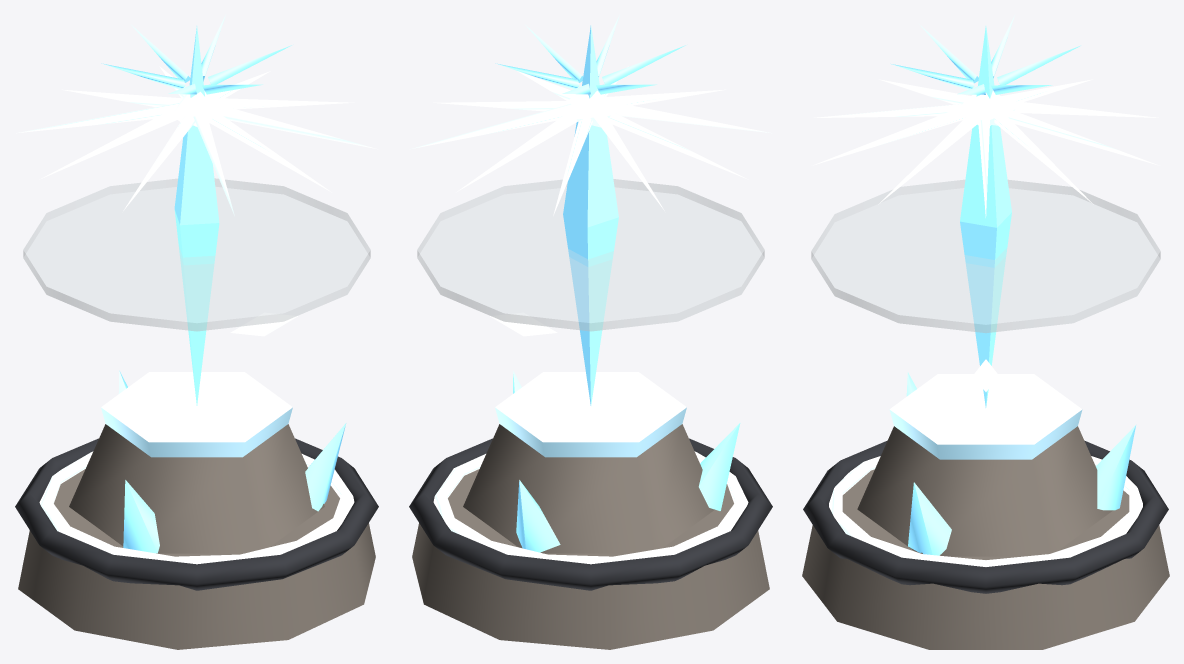
The model's file is tower_freeze_winter.glb.
3 renders of one model, left to right at view 1: azimuth 30°, elevation 25°; view 2: azimuth 150°, elevation 25°; view 3: azimuth 270°, elevation 25°, orthographic.
Parts seen in each view (by area): view 1: winter_mist, base, pedestal, pedestal_frost, base_rim, crystal, aura_ring, side_crystal_1, side_crystal_0, canopy_branch_1, canopy_branch_6, canopy_branch_2 (+9 smaller); view 2: winter_mist, base, pedestal, pedestal_frost, base_rim, crystal, aura_ring, side_crystal_1, side_crystal_2, canopy_branch_9, canopy_branch_4, canopy_branch_8 (+9 smaller); view 3: winter_mist, base, pedestal, pedestal_frost, base_rim, crystal, aura_ring, side_crystal_0, side_crystal_2, canopy_branch_2, canopy_branch_8, canopy_branch_1 (+9 smaller).
Boxes of the visible parts, box(x1,y1,x2,y2) form: winter_mist: box(23, 178, 370, 331); base: box(18, 469, 375, 649); pedestal: box(69, 424, 324, 553); pedestal_frost: box(101, 372, 292, 457); base_rim: box(15, 438, 378, 590); crystal: box(174, 26, 219, 405); aura_ring: box(39, 451, 354, 564); side_crystal_1: box(123, 480, 159, 553); side_crystal_0: box(305, 423, 346, 511); canopy_branch_1: box(212, 102, 377, 149); canopy_branch_6: box(16, 103, 179, 133); canopy_branch_2: box(209, 111, 331, 192); winter_mist: box(417, 179, 764, 331); base: box(412, 469, 769, 649); pedestal: box(463, 424, 714, 553); pedestal_frost: box(495, 372, 686, 457); base_rim: box(409, 438, 772, 590); crystal: box(563, 25, 618, 405); aura_ring: box(433, 451, 748, 564); side_crystal_1: box(698, 423, 740, 510); side_crystal_2: box(516, 480, 560, 552); canopy_branch_9: box(410, 104, 572, 149); canopy_branch_4: box(606, 100, 771, 133); canopy_branch_8: box(456, 106, 577, 192); winter_mist: box(811, 179, 1160, 332); base: box(802, 469, 1169, 649); pedestal: box(857, 426, 1112, 556); pedestal_frost: box(889, 374, 1082, 459); base_rim: box(803, 440, 1168, 593); crystal: box(960, 26, 1011, 407); aura_ring: box(829, 456, 1142, 566); side_crystal_0: box(908, 482, 951, 555); side_crystal_2: box(1096, 425, 1135, 510); canopy_branch_2: box(813, 106, 969, 165); canopy_branch_8: box(1001, 106, 1159, 165); canopy_branch_1: box(878, 107, 978, 204).
Size of the model in its own units: 0.4017 by 0.662 by 0.4.
